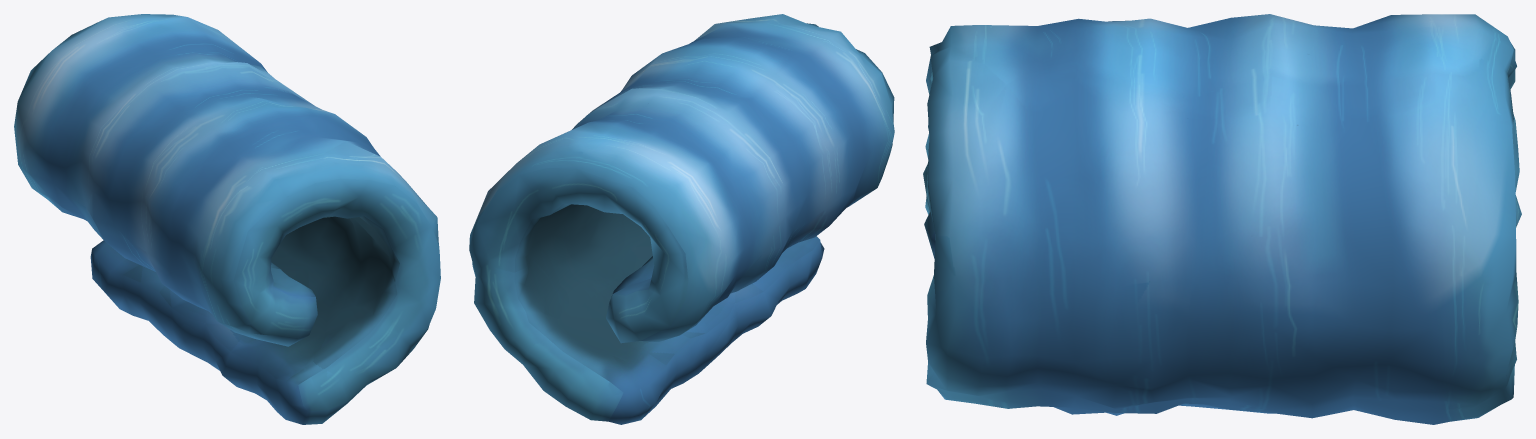
Rendered from wave.fbx.
The picture shows the model from 3 angles, left to right: view 1: azimuth 30°, elevation 25°; view 2: azimuth 150°, elevation 25°; view 3: azimuth 270°, elevation 25°; orthographic projection. The views are drawn at different scales.
Visible parts, largest first — view 1: Cylinder; view 2: Cylinder; view 3: Cylinder.
Part boxes in pixels (box(x1,y1,x2,y2)): Cylinder: box(14, 14, 440, 424); Cylinder: box(469, 14, 894, 424); Cylinder: box(923, 14, 1521, 424).
Bounding box in the file's own units: 722 × 768 × 1091.
